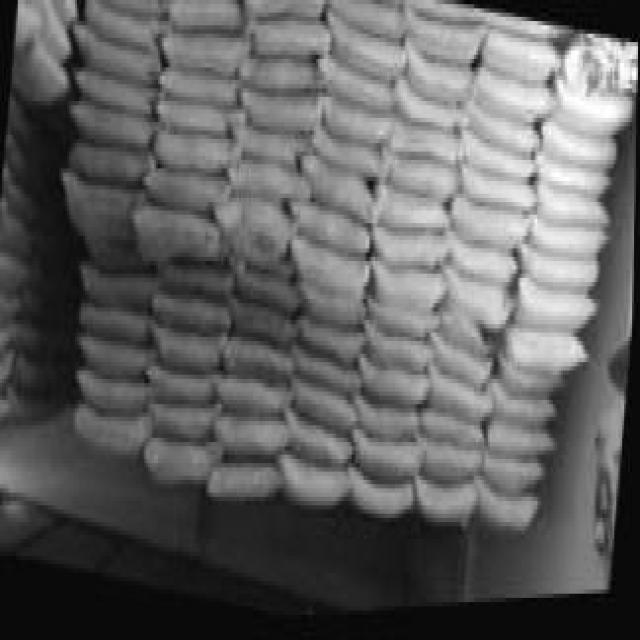gunny_bag: (326, 0, 405, 84), (297, 154, 378, 231), (73, 19, 157, 90), (133, 202, 220, 265), (216, 202, 290, 273), (486, 19, 561, 83), (297, 245, 370, 310), (429, 328, 496, 398), (466, 102, 539, 165), (442, 275, 514, 335), (374, 263, 443, 325), (70, 93, 157, 142), (470, 77, 551, 129), (449, 239, 521, 296), (322, 93, 390, 152), (517, 284, 592, 337), (452, 201, 527, 254), (289, 208, 367, 257), (396, 78, 461, 136), (507, 338, 583, 387), (227, 336, 297, 389), (359, 360, 429, 412), (385, 152, 455, 204), (156, 123, 238, 167), (240, 89, 322, 133), (293, 385, 355, 442), (377, 188, 449, 237), (229, 124, 307, 169), (152, 317, 227, 363), (163, 35, 245, 77), (538, 184, 605, 235), (522, 247, 596, 291), (229, 163, 303, 207), (372, 231, 444, 276), (420, 420, 486, 469), (12, 37, 61, 103), (477, 485, 541, 535), (148, 169, 229, 208), (299, 356, 363, 405), (536, 158, 610, 200), (72, 142, 147, 183), (232, 302, 294, 351), (248, 27, 329, 64), (362, 332, 431, 375), (464, 173, 532, 216), (300, 321, 368, 363), (348, 478, 414, 521), (281, 464, 347, 507), (85, 330, 150, 373), (353, 404, 417, 447), (415, 482, 478, 525), (148, 402, 218, 440), (153, 299, 231, 333), (78, 407, 147, 445), (222, 380, 289, 418), (160, 100, 244, 130), (152, 438, 214, 474), (490, 428, 550, 464), (80, 373, 145, 406), (215, 423, 286, 452), (167, 1, 241, 28), (212, 468, 278, 498), (39, 0, 72, 54), (485, 464, 538, 497), (81, 309, 147, 335), (239, 0, 322, 19), (121, 0, 170, 13), (61, 0, 81, 18)
